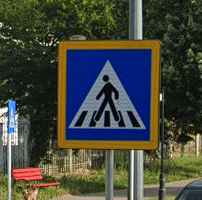trecere_pietoni: (55, 40, 161, 151)
